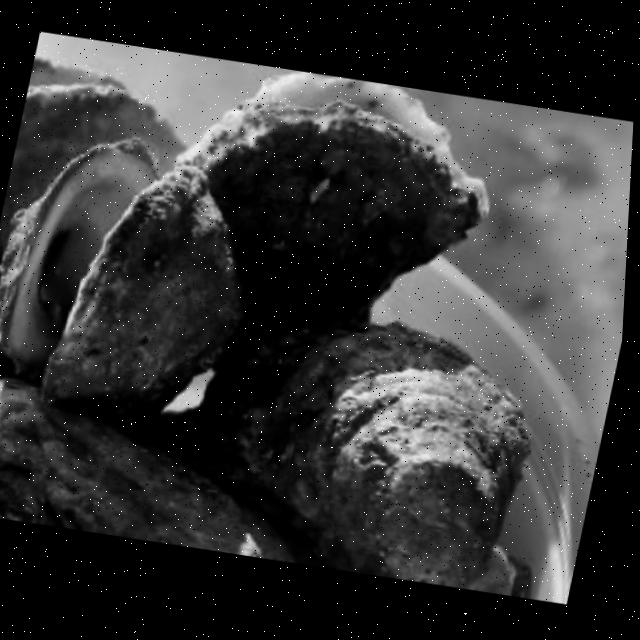Oyster-Indeterminate: (241, 325, 527, 596), (0, 380, 299, 564)
Oyster-Open: (180, 72, 489, 424), (0, 143, 240, 398), (0, 62, 185, 263)
